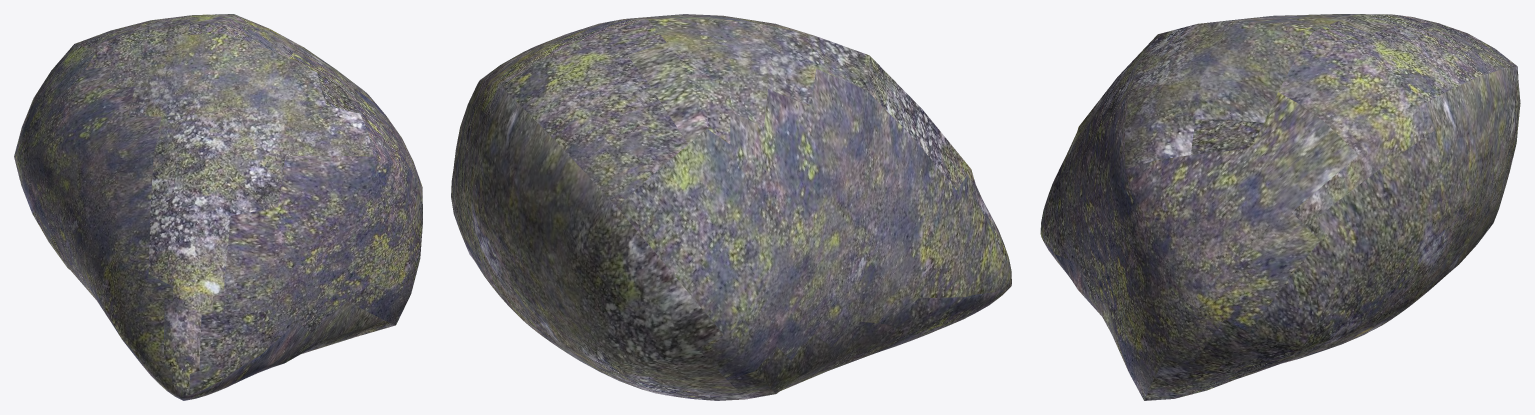
The model's file is stone_2.fbx.
The picture shows the model from 3 angles, left to right: view 1: azimuth 30°, elevation 25°; view 2: azimuth 150°, elevation 25°; view 3: azimuth 270°, elevation 25°; orthographic projection. The views are drawn at different scales.
Parts seen in each view (by area): view 1: pCube1; view 2: pCube1; view 3: pCube1.
Part boxes in pixels (left/top/right/bottom): pCube1: left=14, top=14, right=422, bottom=400; pCube1: left=451, top=14, right=1011, bottom=400; pCube1: left=1040, top=14, right=1520, bottom=400.
Bounding box in the file's own units: 17.53 × 14.26 × 19.06.
